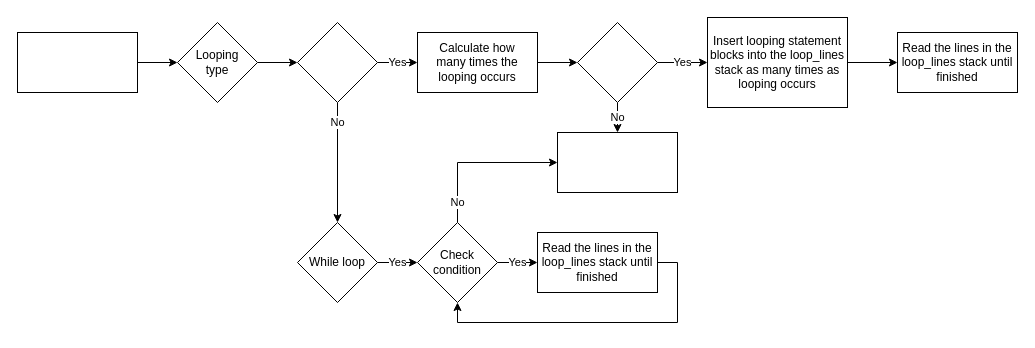
Some shapes in this 1035 by 348 pixel diagram are drawn without their labels. The box of each missing label's shape, as (x1, y1, x2, y2) in pixels:
Continue to the line after the looping block: (556, 132, 678, 192)
For loop: (296, 22, 378, 102)
looping > 0: (576, 22, 658, 102)
looping detected: (16, 32, 138, 92)
